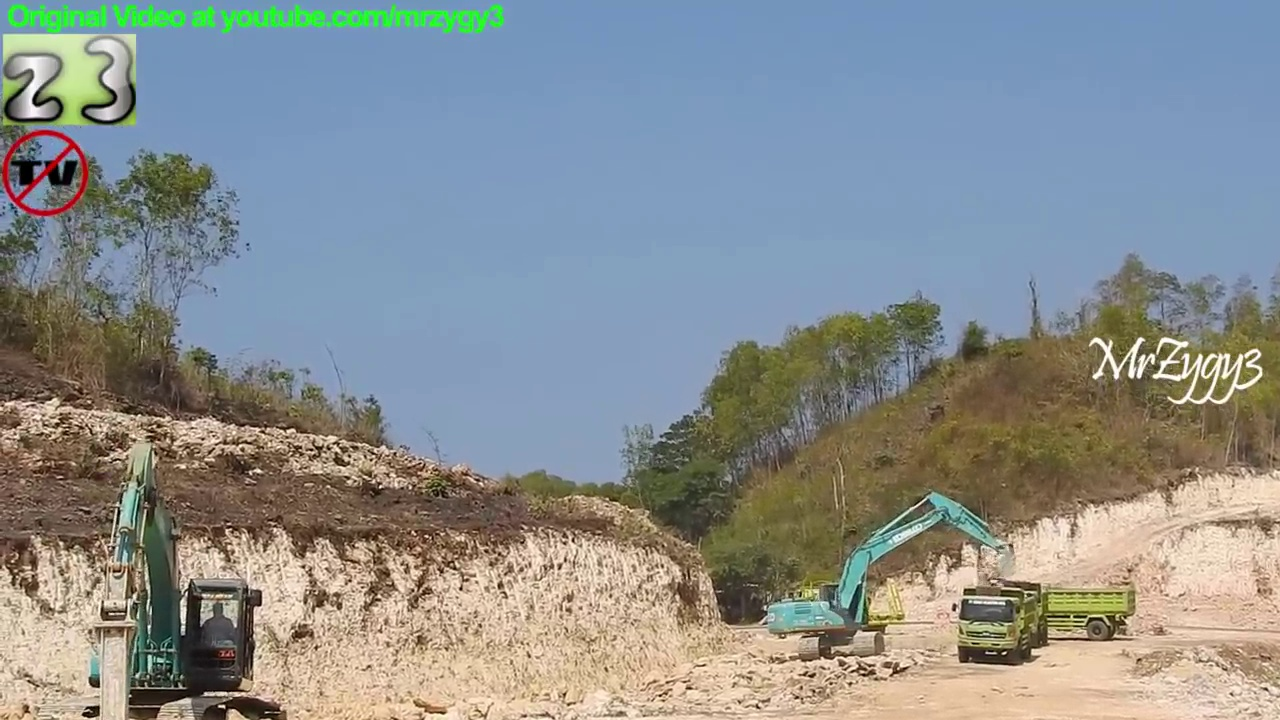excavator: (38, 436, 291, 720), (767, 488, 1019, 664)
truck: (981, 575, 1140, 645), (951, 583, 1044, 664), (967, 575, 1055, 654)
